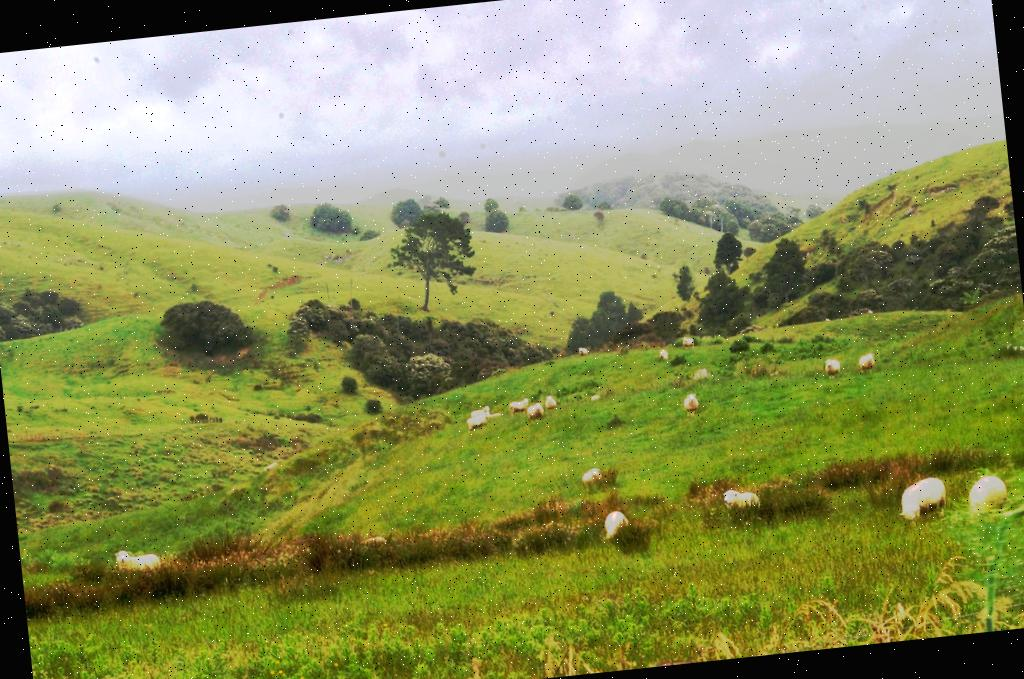Sheep: (894, 476, 947, 516), (966, 471, 1008, 520), (114, 546, 164, 576), (722, 486, 762, 518), (601, 508, 630, 540), (465, 408, 493, 434), (824, 355, 841, 380), (858, 351, 876, 372), (528, 401, 548, 419), (683, 392, 700, 413), (469, 404, 493, 418), (582, 467, 602, 483), (508, 397, 530, 411), (544, 394, 556, 408), (682, 336, 694, 348), (578, 345, 590, 356), (658, 347, 668, 360)
